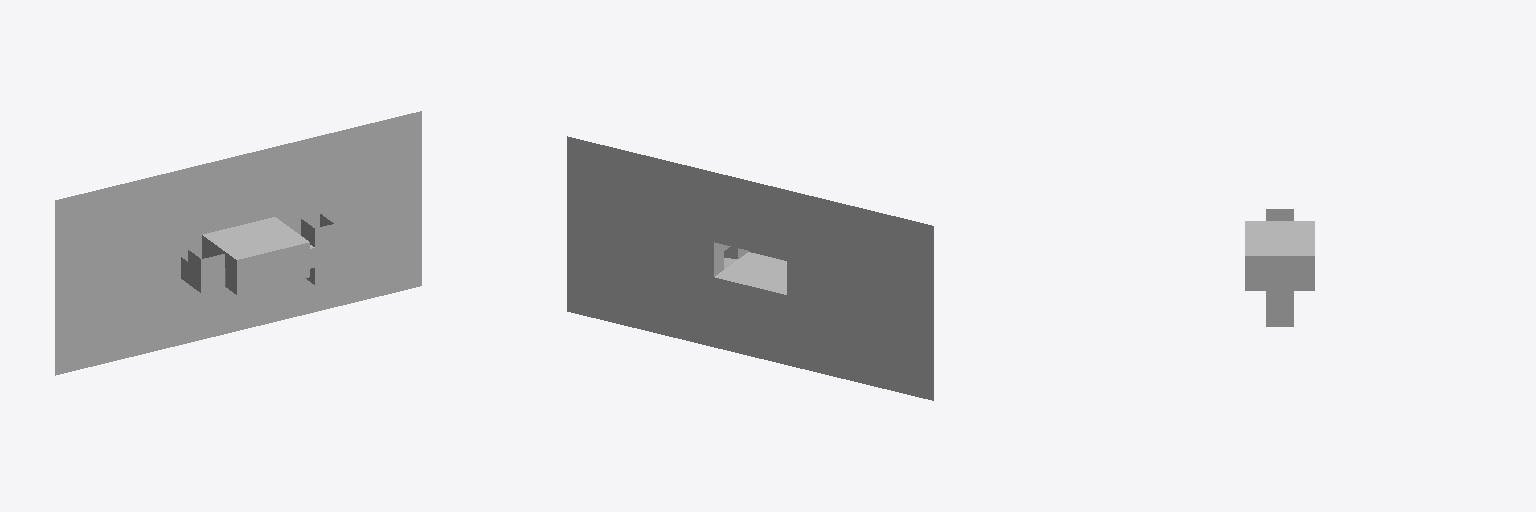
The model's file is WiderRoom.obj.
3 renders of one model, left to right at view 1: azimuth 30°, elevation 25°; view 2: azimuth 150°, elevation 25°; view 3: azimuth 270°, elevation 25°, orthographic.
Visible parts, largest first — view 1: Cube.001; view 2: Cube.001; view 3: Cube.001.
Part boxes in pixels (left/top/right/bottom): Cube.001: left=55, top=111, right=421, bottom=375; Cube.001: left=567, top=136, right=933, bottom=400; Cube.001: left=1245, top=209, right=1314, bottom=326.
Bounding box in the file's own units: 100 × 45.83 × 16.5.